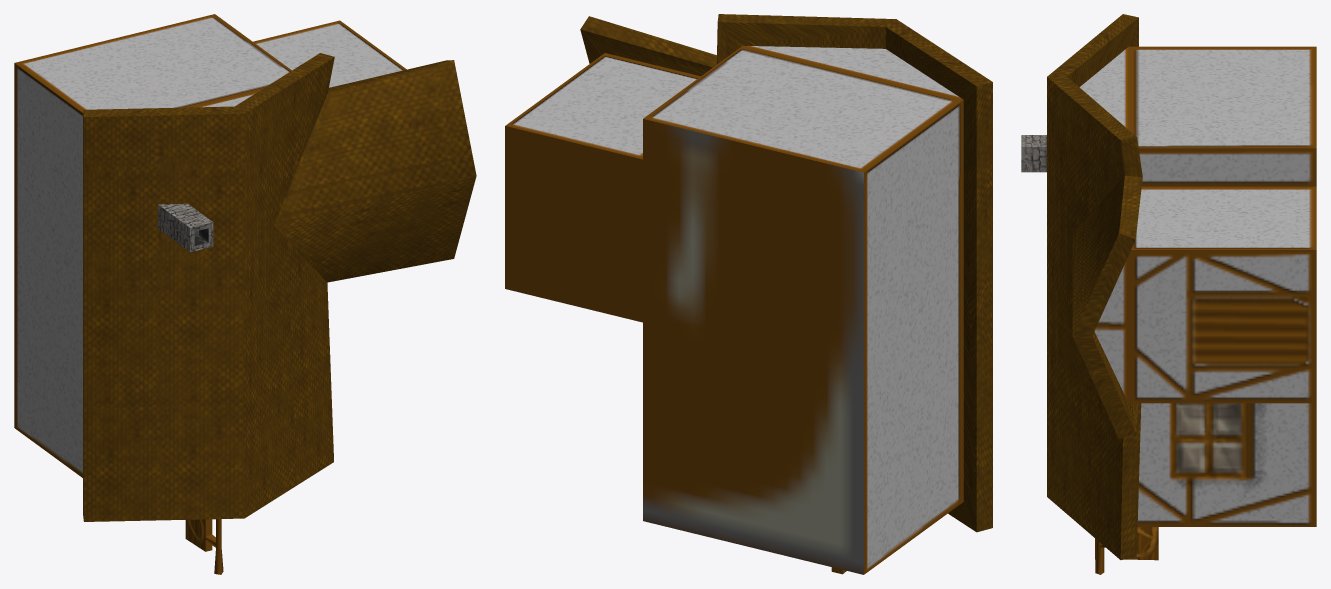
File: bakery2.gltf
3 renders of one model, left to right at view 1: azimuth 30°, elevation 25°; view 2: azimuth 150°, elevation 25°; view 3: azimuth 270°, elevation 25°, orthographic. The views are drawn at different scales.
Visible parts, largest first — view 1: cube1_cube1_auv, cube1_cube3_auv, cube1_cube2_auv; view 2: cube1_cube1_auv; view 3: cube1_cube1_auv, cube1_cube2_auv, cube1_cube3_auv.
Part boxes in pixels (box(x1,y1,x2,y2)): cube1_cube1_auv: box(14, 14, 476, 521); cube1_cube3_auv: box(158, 203, 213, 251); cube1_cube2_auv: box(185, 519, 223, 574); cube1_cube1_auv: box(505, 14, 992, 574); cube1_cube1_auv: box(1047, 14, 1316, 559); cube1_cube2_auv: box(1095, 527, 1158, 574); cube1_cube3_auv: box(1021, 135, 1046, 172).
Size of the model in its own units: 1.6 by 1.99 by 1.07.
3 materials, 3 textured.
